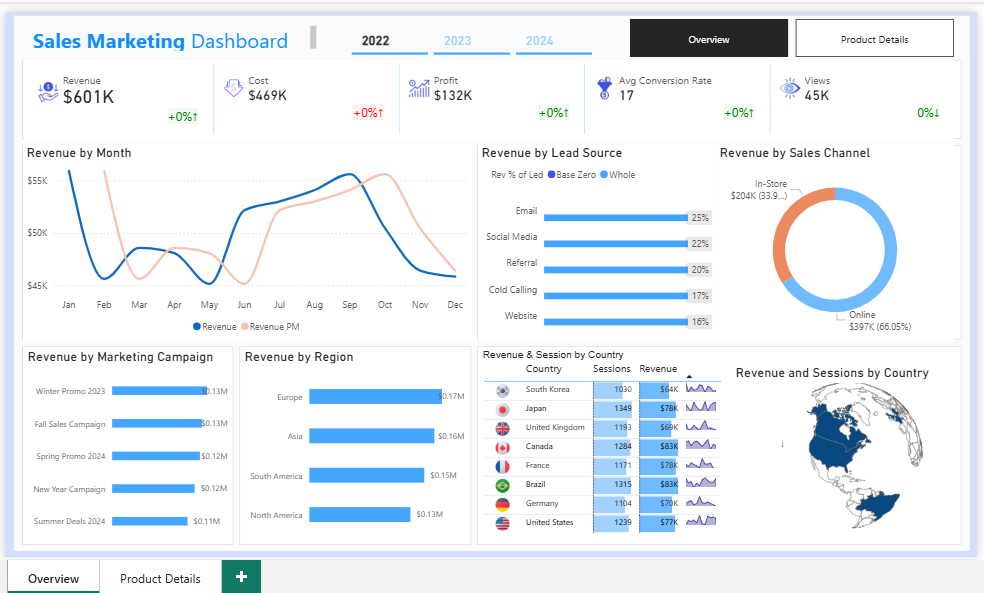

The dashboard page shown, as its layout file describes it:
{"tool":"powerbi","page":{"name":"Overview","canvas":[1280,720],"ordinal":0},"visuals":[{"type":"advancedSlicerVisual","fields":{"Values":["Calender.year"]},"box":[451.8,8.9,328.4,52.4],"z":0},{"type":"cardVisual","fields":{"Data":["All Measures.Revenue","All Measures.Cost","All Measures.Profit","All Measures.Avg Conversion Rate","All Measures.Views"]},"box":[24.8,63,1223.7,104],"z":1000},{"type":"lineChart","title":"Revenue by Month","fields":{"Y":["All Measures.Revenue","All Measures.Revenue PM"],"Category":["Calender.Month"]},"box":[23.8,174.5,592.3,256.6],"z":2000},{"type":"clusteredBarChart","title":"Revenue by Lead  Source","fields":{"Y":["All Measures.Rev % of Led","All Measures.Base Zero","All Measures.Whole"],"Category":["dimLeadSource.Lead Source"]},"box":[623,175,313,257],"z":3000},{"type":"donutChart","fields":{"Y":["All Measures.Revenue"],"Category":["dimChannel.Sales Channel"]},"box":[936,175,313,257],"z":4000},{"type":"clusteredBarChart","fields":{"Y":["All Measures.Revenue"],"Category":["dimMarketingCampaign.Marketing Campaign"]},"box":[25,443,273,256],"z":5000},{"type":"clusteredBarChart","fields":{"Y":["All Measures.Revenue"],"Category":["dimCountry.Region"]},"box":[310,443,299,256],"z":6000},{"type":"tableEx","title":"Revenue & Session by Country","fields":{"Values":["dimCountry.flag","dimCountry.Country","All Measures.Sessions","All Measures.Revenue","All Measures.Revenue Sparkline"]},"box":[623.1,442.9,333.8,255.6],"z":7000},{"type":"shapeMap","fields":{"Category":["Country Flag.Country"],"Value":["All Measures.Revenue"]},"box":[956.9,464.2,292,220.1],"z":8000},{"type":"pageNavigator","box":[821.9,9,427,50.2],"z":9000},{"type":"textbox","box":[31.1,13.1,382.8,43.2],"z":10000}]}

Visuals, with their boxes on the page's 1280x720 design canvas (x1, y1, x2, y2). These are canvas units, not pixel positions in the 984x593 screenshot, which may show the page scaled, cropped or inside an application window:
advancedSlicerVisual - Calender.year: detection(452, 9, 780, 61)
cardVisual - All Measures.Revenue x All Measures.Cost: detection(25, 63, 1248, 167)
"Revenue by Month" lineChart: detection(24, 174, 616, 431)
"Revenue by Lead  Source" clusteredBarChart: detection(623, 175, 936, 432)
donutChart - All Measures.Revenue x dimChannel.Sales Channel: detection(936, 175, 1249, 432)
clusteredBarChart - All Measures.Revenue x dimMarketingCampaign.Marketing Campaign: detection(25, 443, 298, 699)
clusteredBarChart - All Measures.Revenue x dimCountry.Region: detection(310, 443, 609, 699)
"Revenue & Session by Country" tableEx: detection(623, 443, 957, 698)
shapeMap - Country Flag.Country x All Measures.Revenue: detection(957, 464, 1249, 684)
pageNavigator: detection(822, 9, 1249, 59)
textbox: detection(31, 13, 414, 56)
